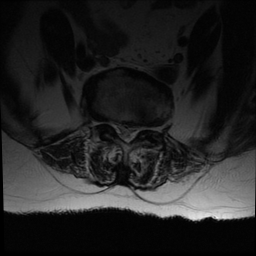CCS_normal: (123, 115, 131, 149)
LFS_stenosis: (141, 119, 148, 139)
LLS_stenosis: (131, 120, 140, 142)
RFS_severe_stenosis: (105, 114, 113, 135)
RLS_normal: (113, 116, 121, 140)
